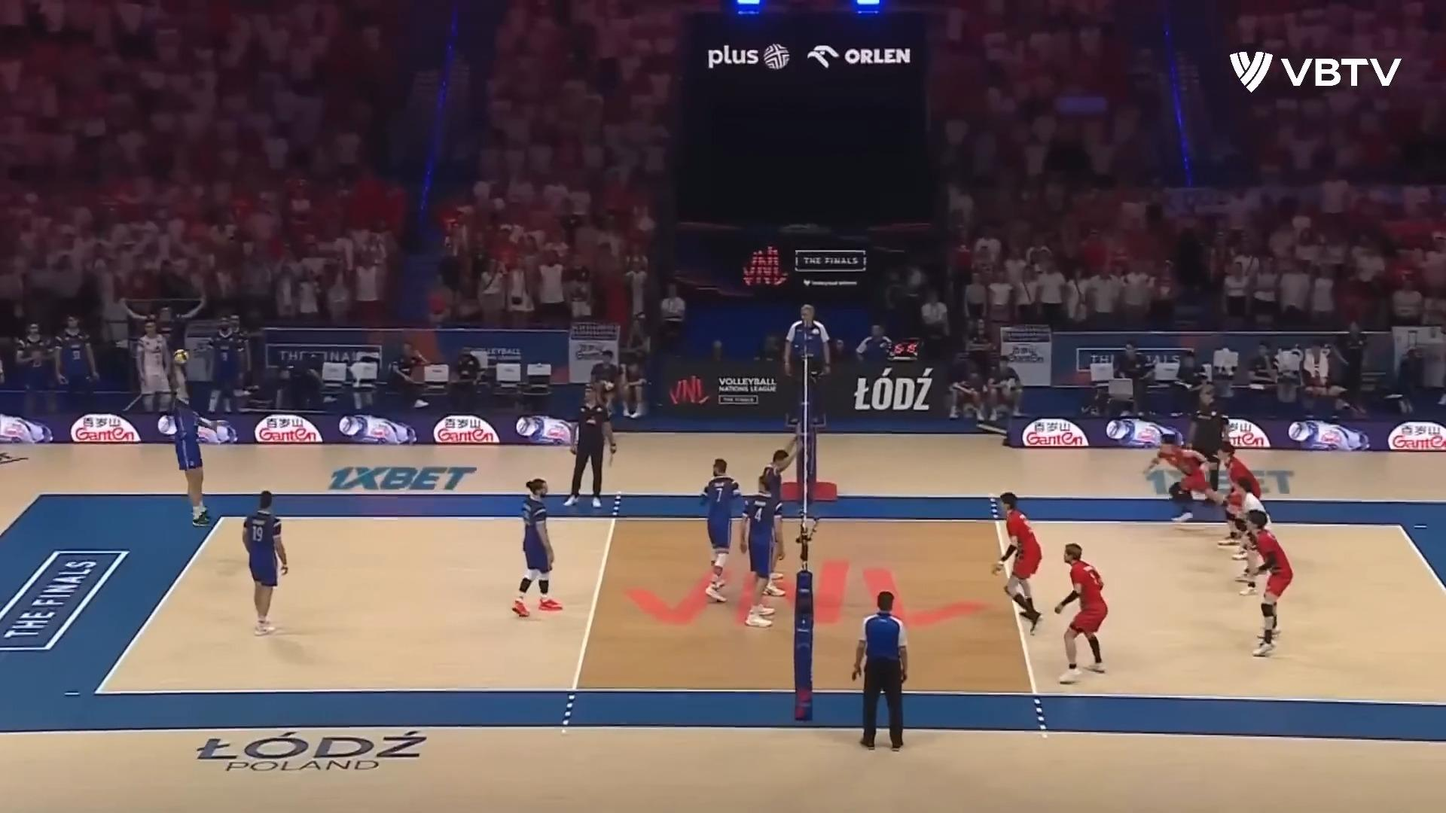ball: (172, 350, 191, 365)
